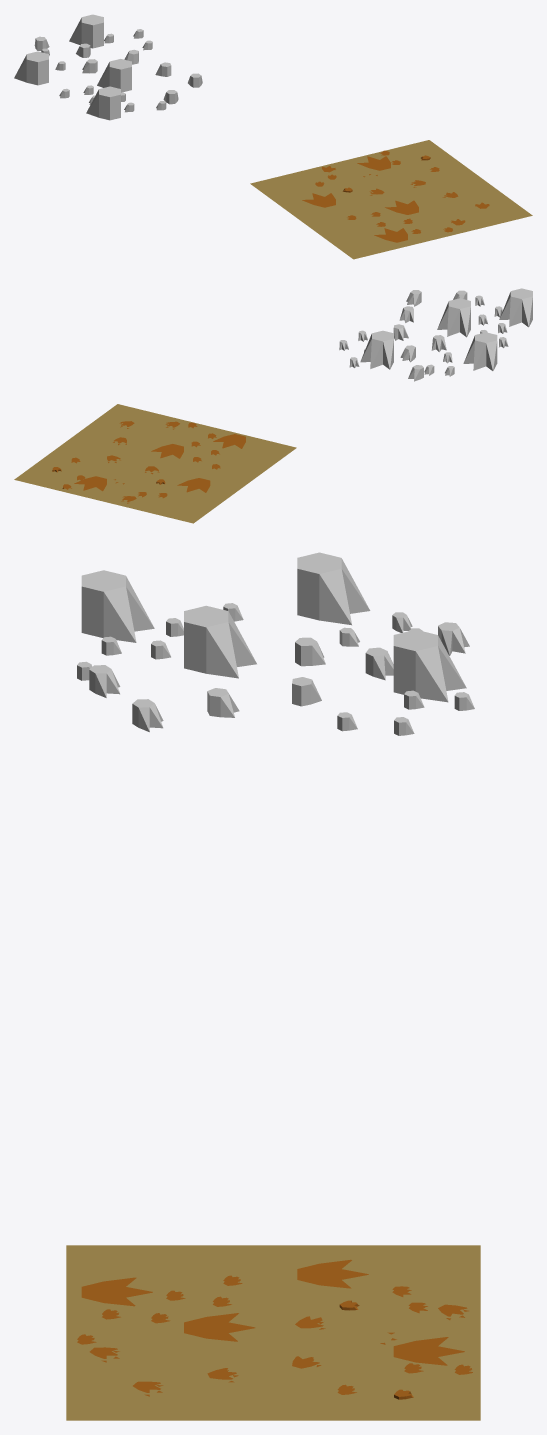
Rendered from path.obj.
The picture shows the model from 3 angles, top to bottom: view 1: azimuth 30°, elevation 25°; view 2: azimuth 150°, elevation 25°; view 3: azimuth 270°, elevation 25°; orthographic projection. The views are drawn at different scales.
Parts seen in each view (by area): view 1: sand_Plane, feets_Cylinder.023, tracks_Cube.001; view 2: sand_Plane, feets_Cylinder.023, tracks_Cube.001; view 3: sand_Plane, feets_Cylinder.023, tracks_Cube.001.
Part boxes in pixels (<box>): sand_Plane: <box>250,140,532,259</box>; feets_Cylinder.023: <box>14,14,202,120</box>; tracks_Cube.001: <box>302,150,489,242</box>; sand_Plane: <box>14,404,296,523</box>; feets_Cylinder.023: <box>339,288,532,381</box>; tracks_Cube.001: <box>52,421,245,503</box>; sand_Plane: <box>66,1245,480,1420</box>; feets_Cylinder.023: <box>77,552,474,735</box>; tracks_Cube.001: <box>77,1259,472,1399</box>.
Size of the model in its own units: 40.29 by 18.76 by 16.17.
